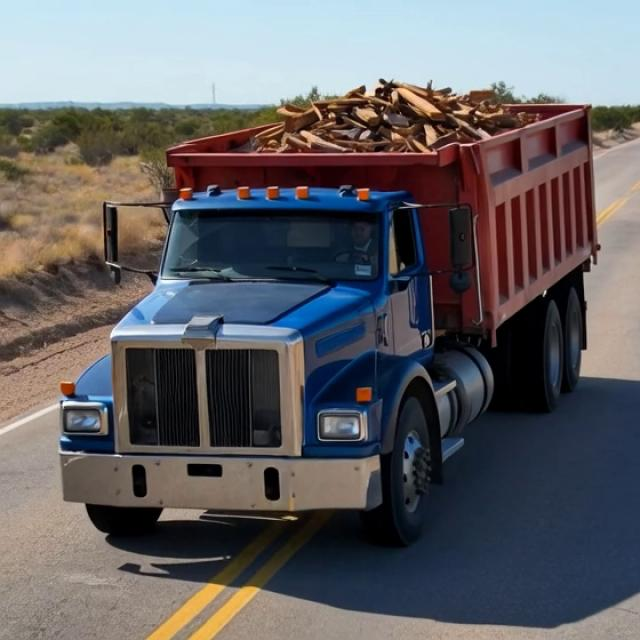Box: (160, 79, 597, 179)
Truck: (52, 66, 622, 552)
